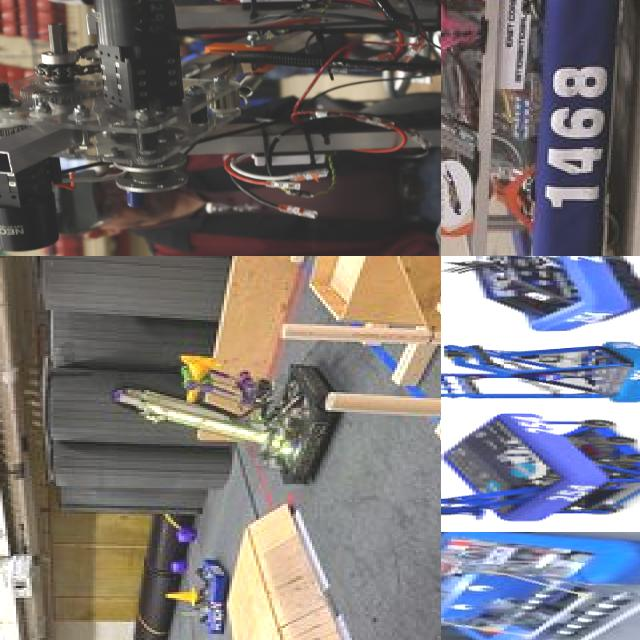FRC-Robots: (52, 335, 366, 505), (441, 0, 625, 256), (441, 528, 640, 640), (441, 414, 640, 520), (441, 333, 640, 409), (441, 256, 640, 325), (145, 544, 249, 640)
